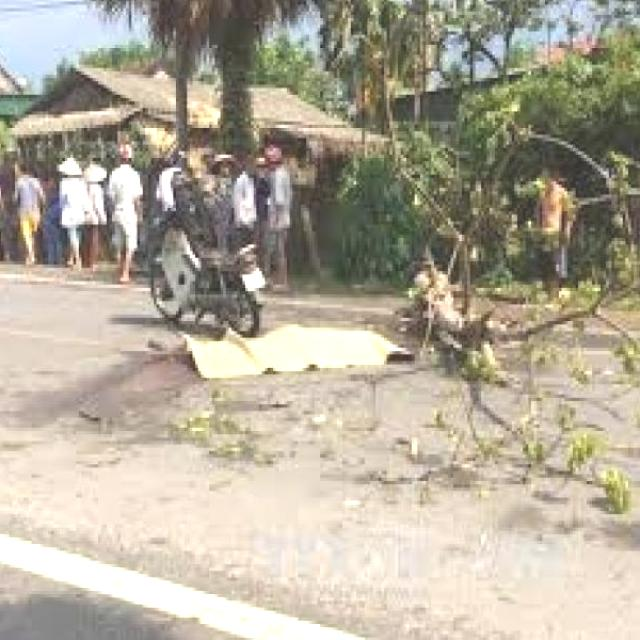fallen_object: (365, 120, 624, 502)
